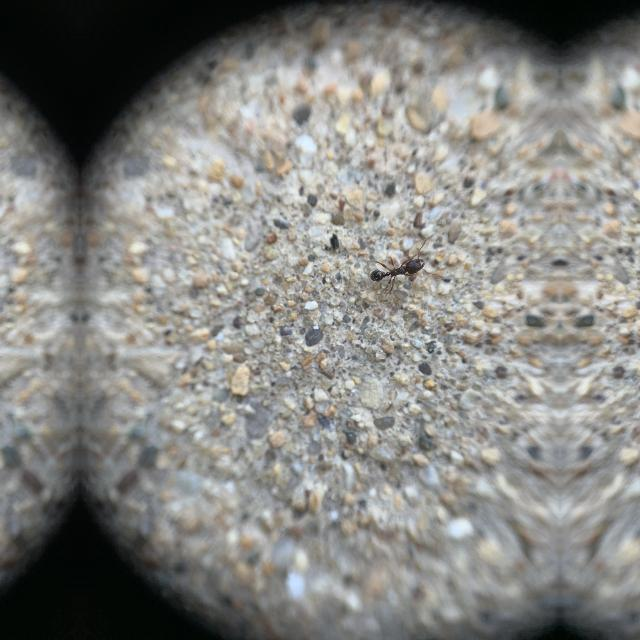Tetramorium: (368, 248, 427, 288)
